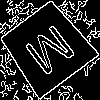M: (22, 23, 84, 85)
